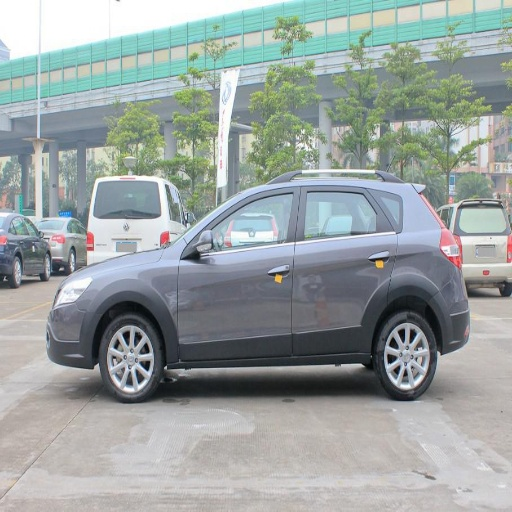back_left_door: (293, 185, 396, 351)
front_left_door: (178, 185, 299, 355)
